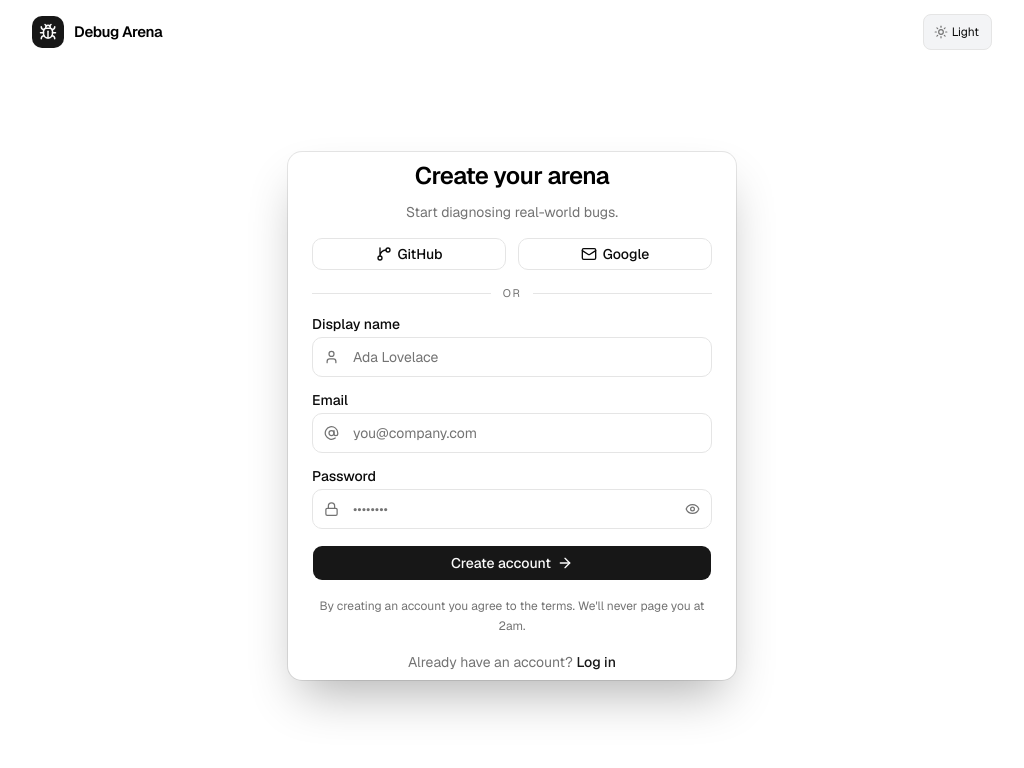
RegisterPage password visibility toggle › toggles password input type to text and updates label to 'Hide password' on click
Click the button named "show password": coordinates (692, 509) [685,502,700,517]
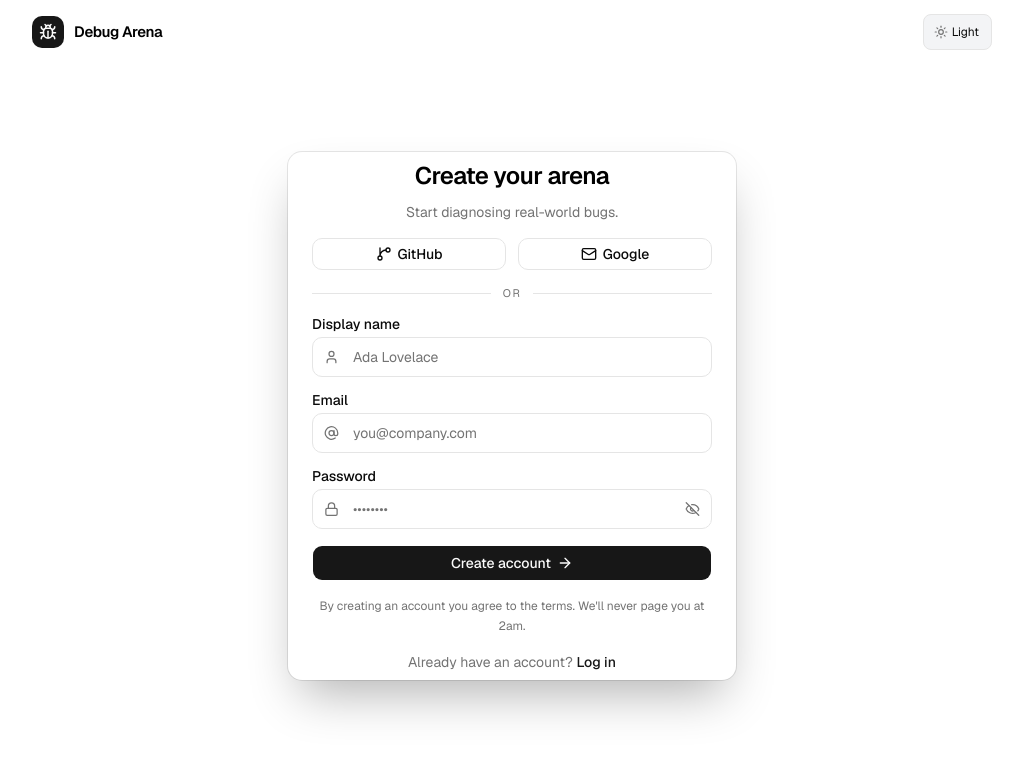
Check: the button named "hide password" is shown
Click the button named "hide password": coordinates (692, 509) [685,502,700,517]
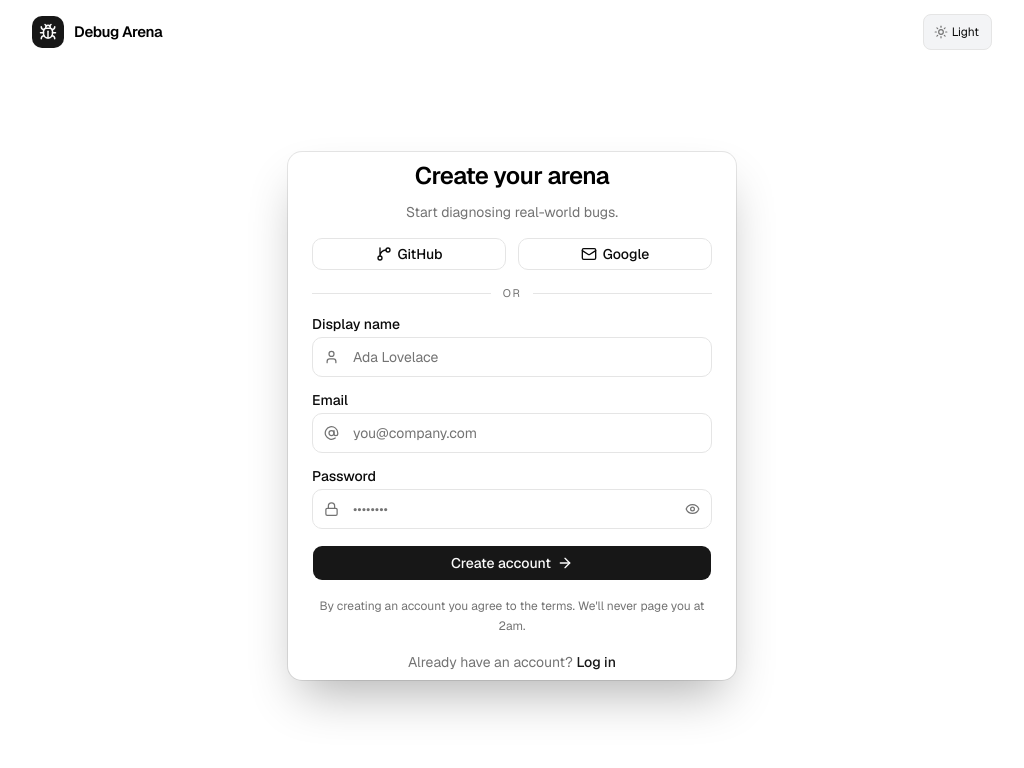
Check: the button named "show password" is shown, box [685,502,700,517]
